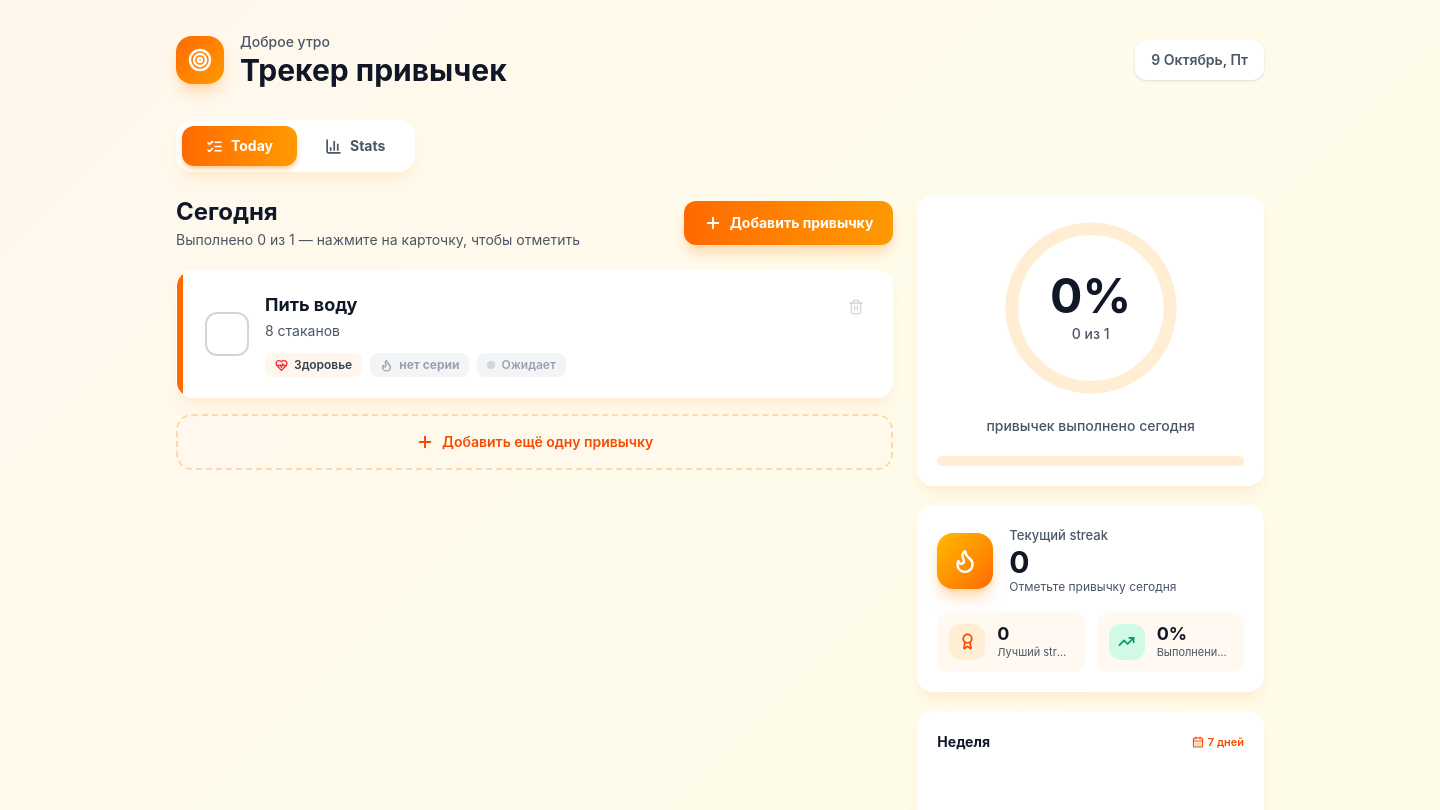
Test case: Today — удаление › требует подтверждения вторым нажатием
The image size is (1440, 810).
Click the button named "Удалить привычку".
click(856, 307)  # box [840, 291, 872, 323]
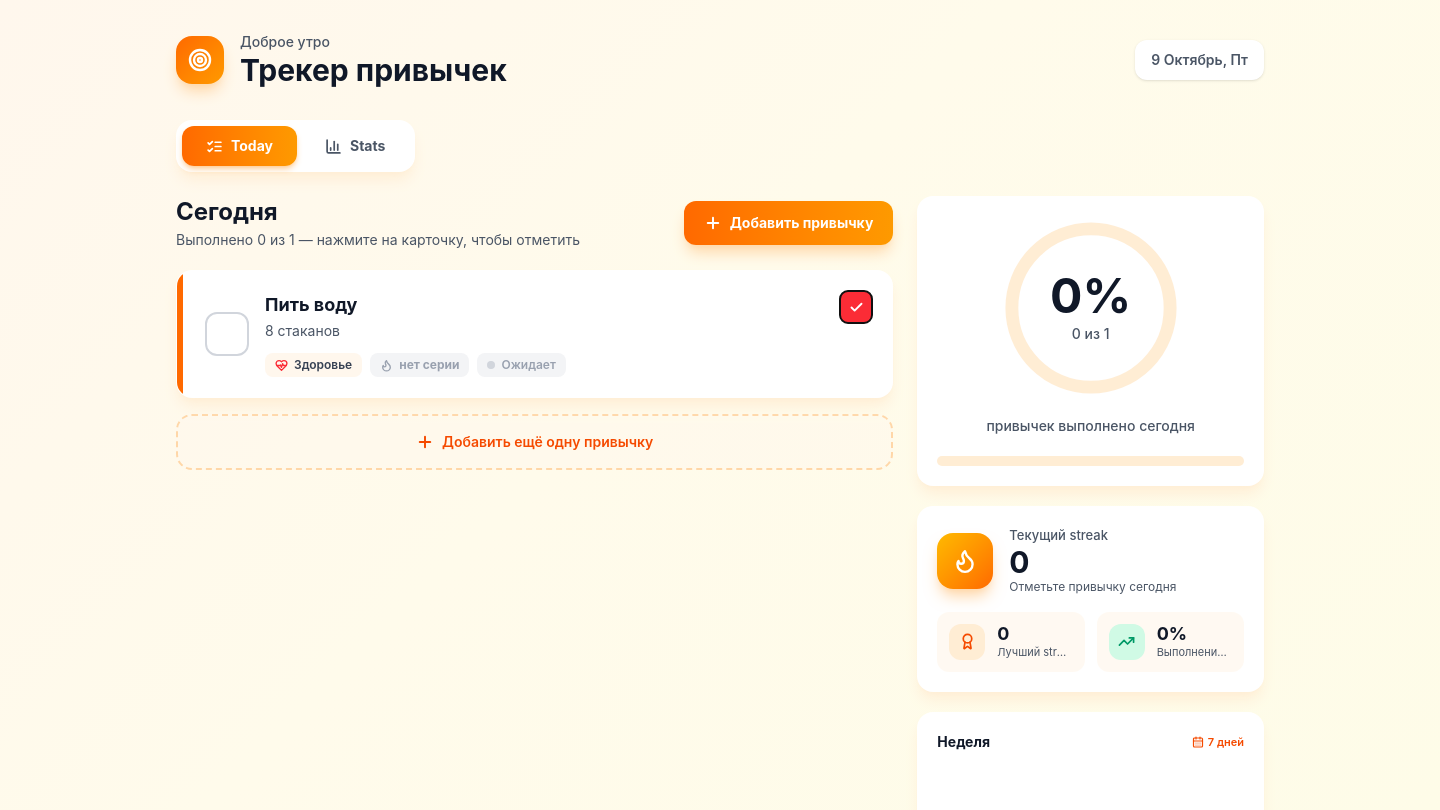
Click the button named "Подтвердите удаление".
click(856, 307)  # box [840, 291, 872, 323]
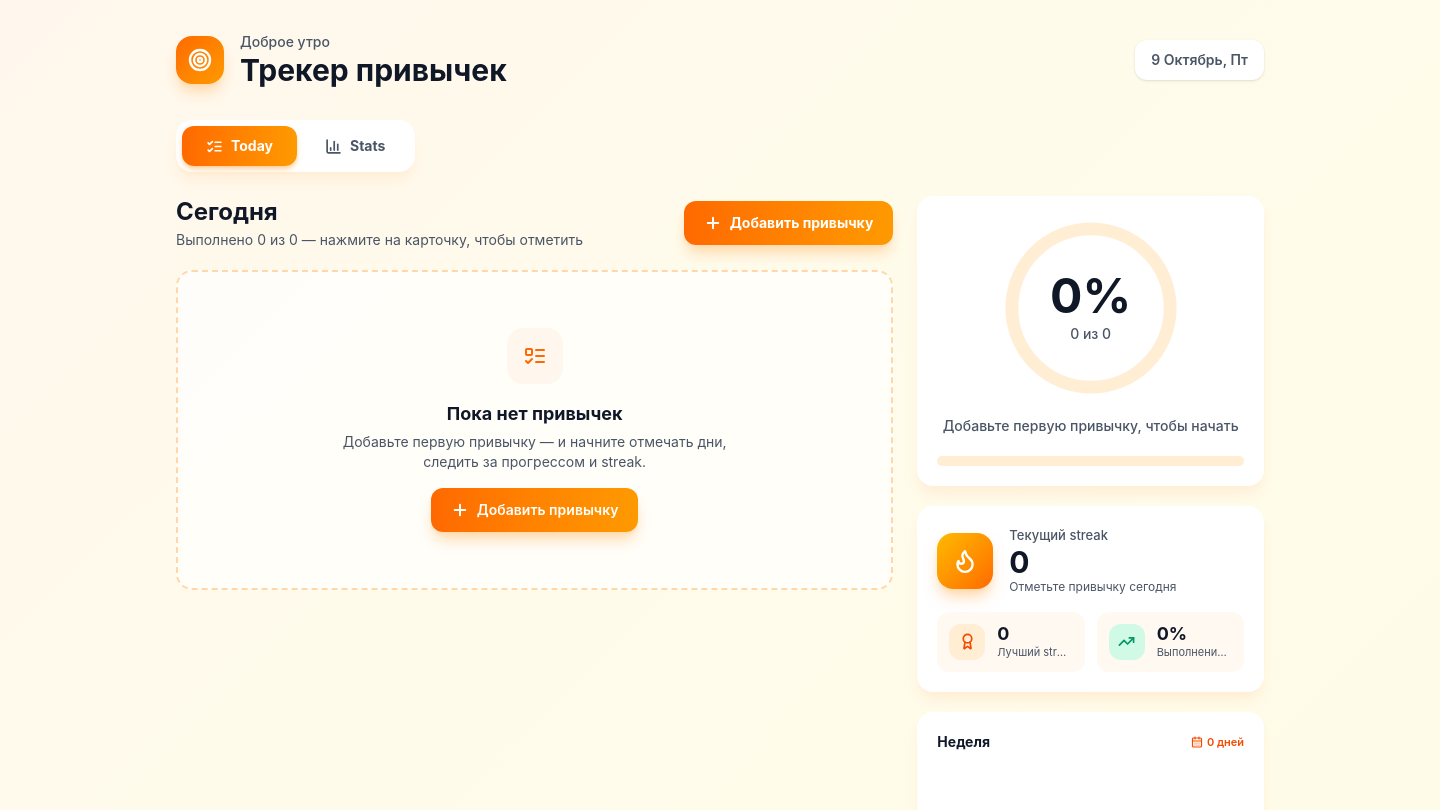
Now the button "Пить воду" is gone
